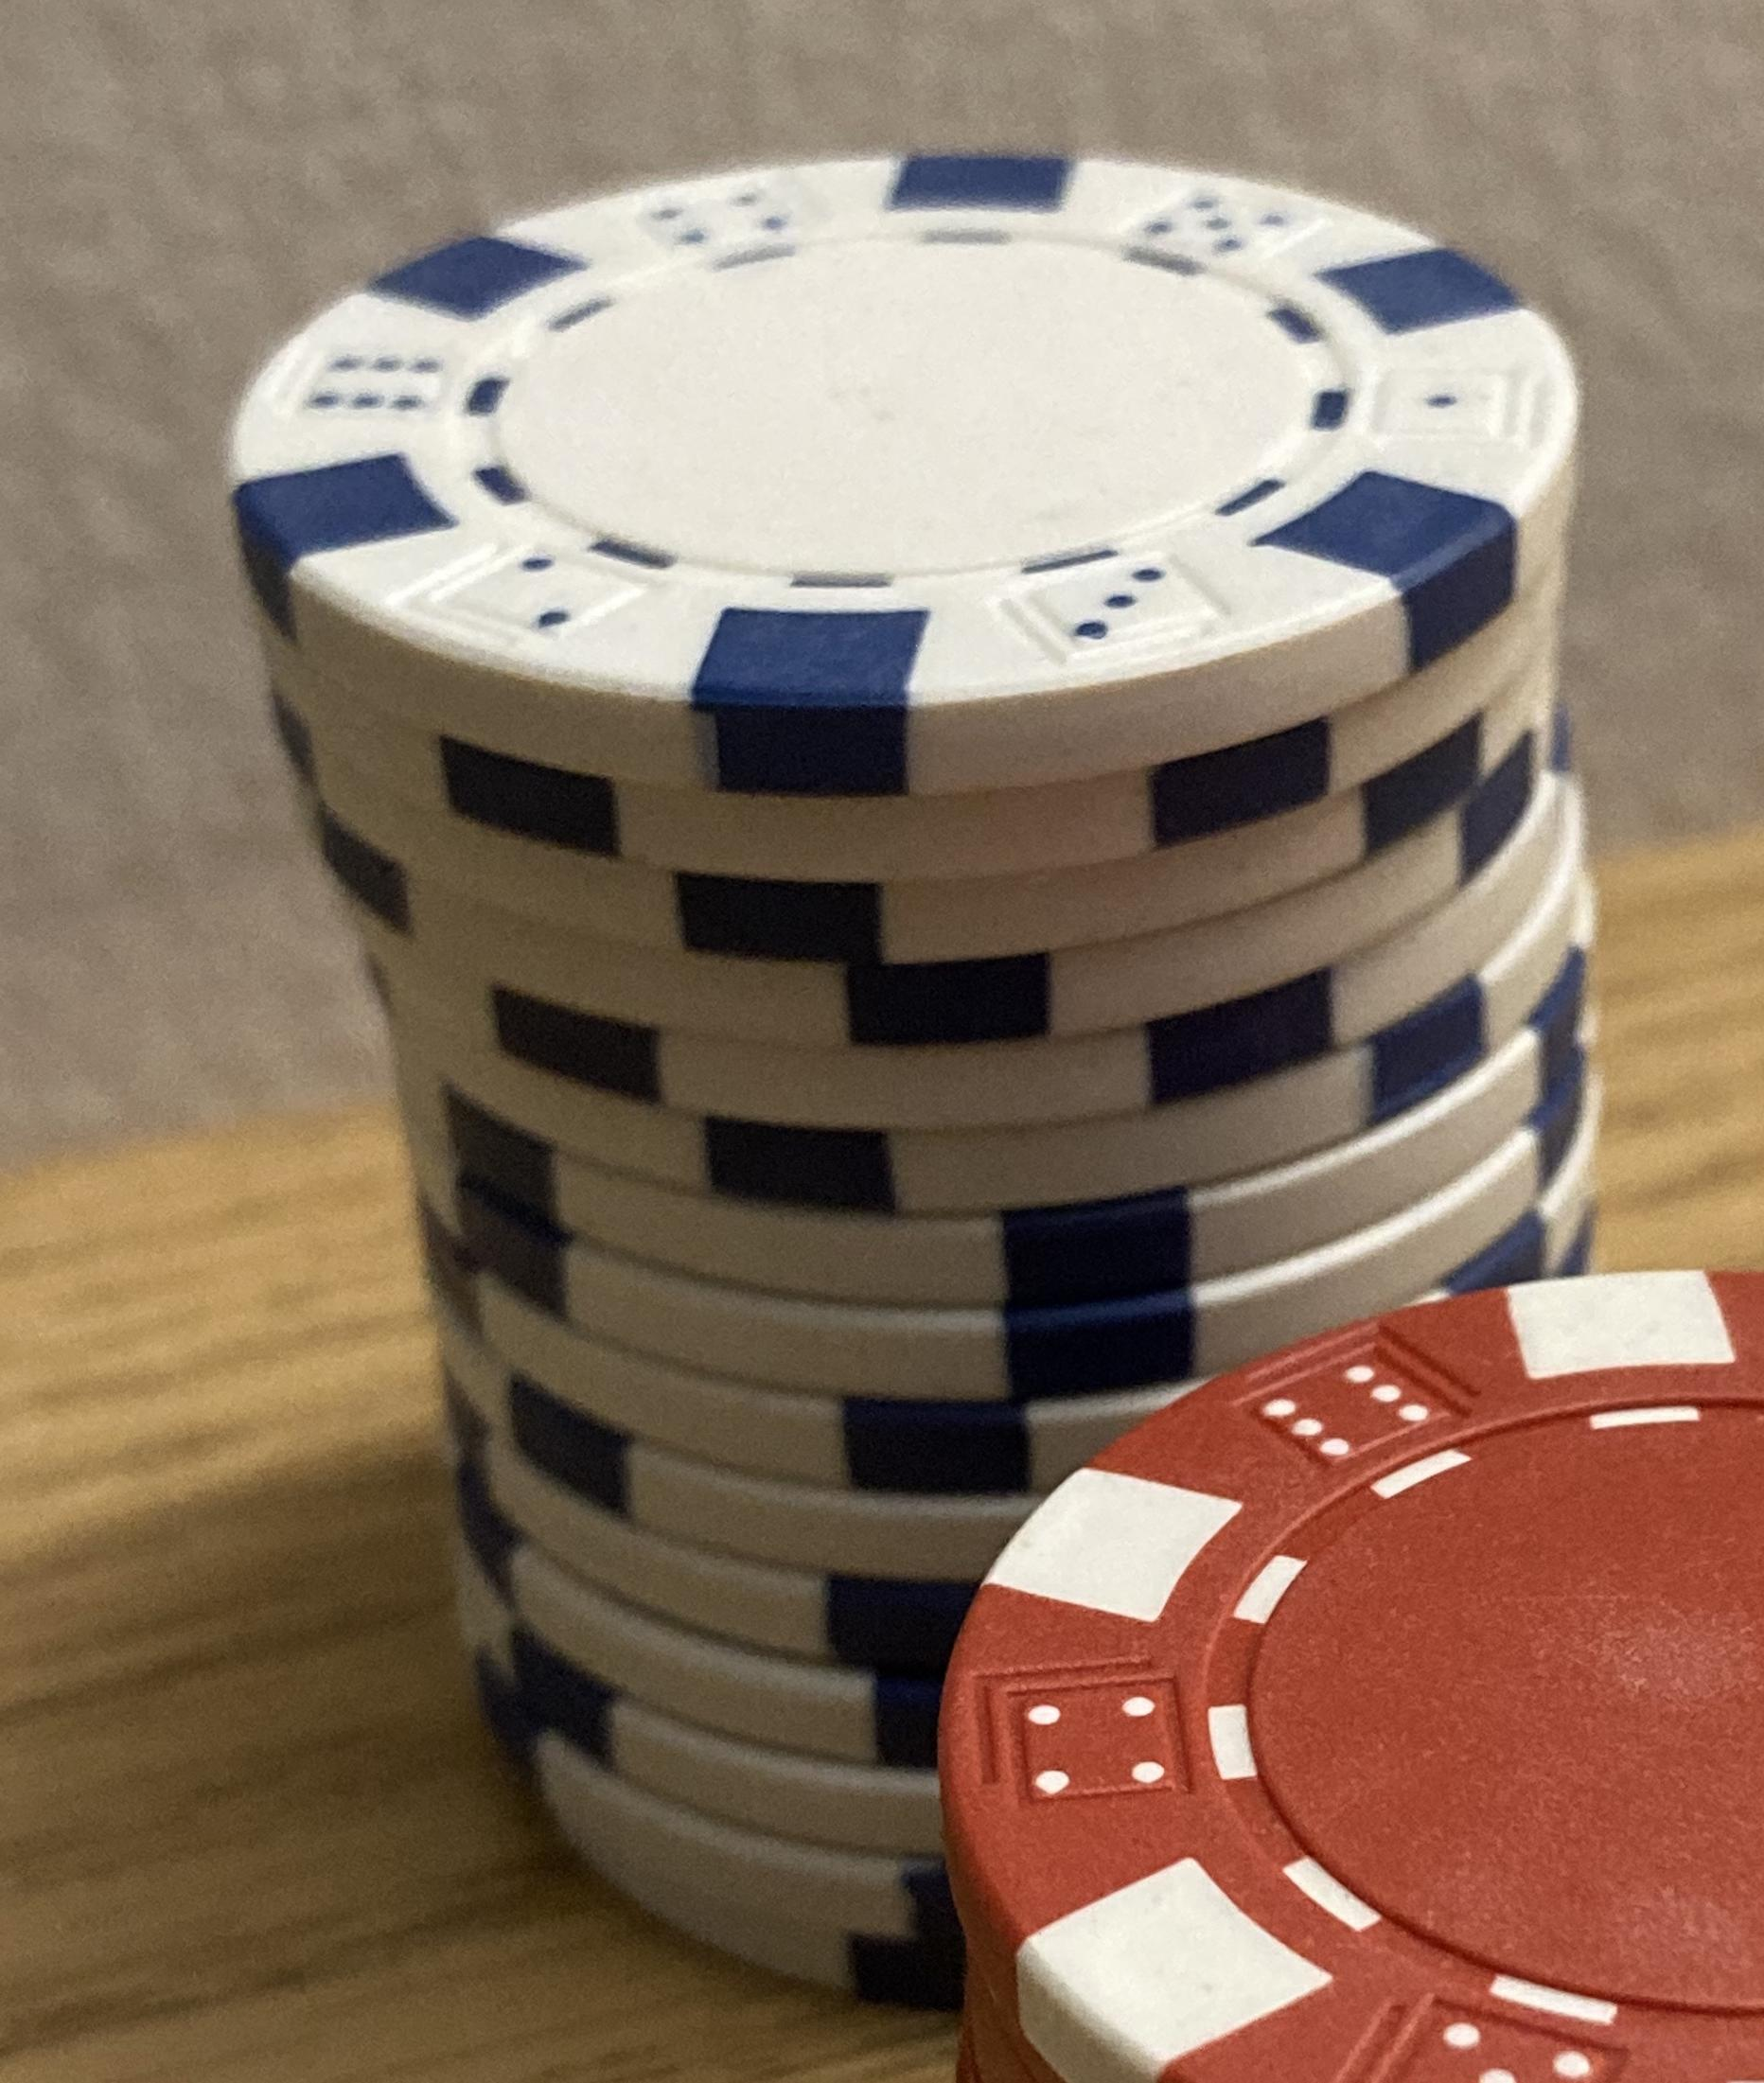Chip: (1, 1, 1764, 2083)
